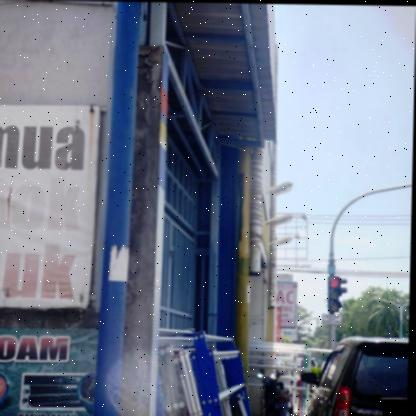Traffic Light -Red-: (329, 276, 345, 313)
